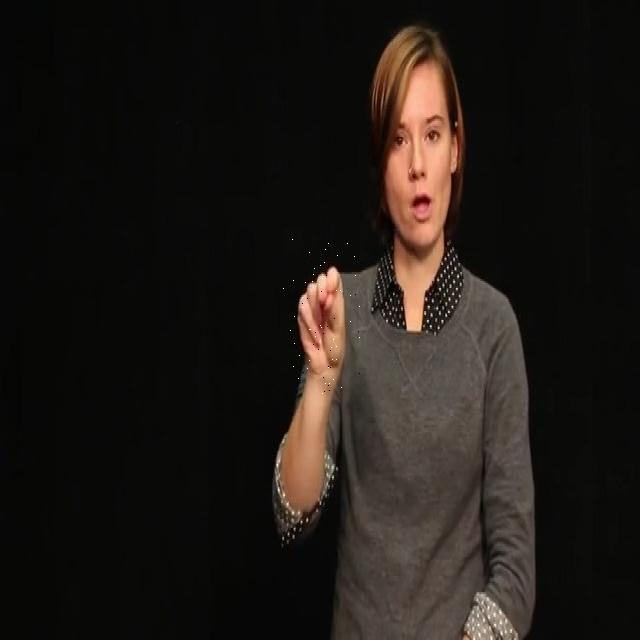no: (282, 238, 360, 397)
